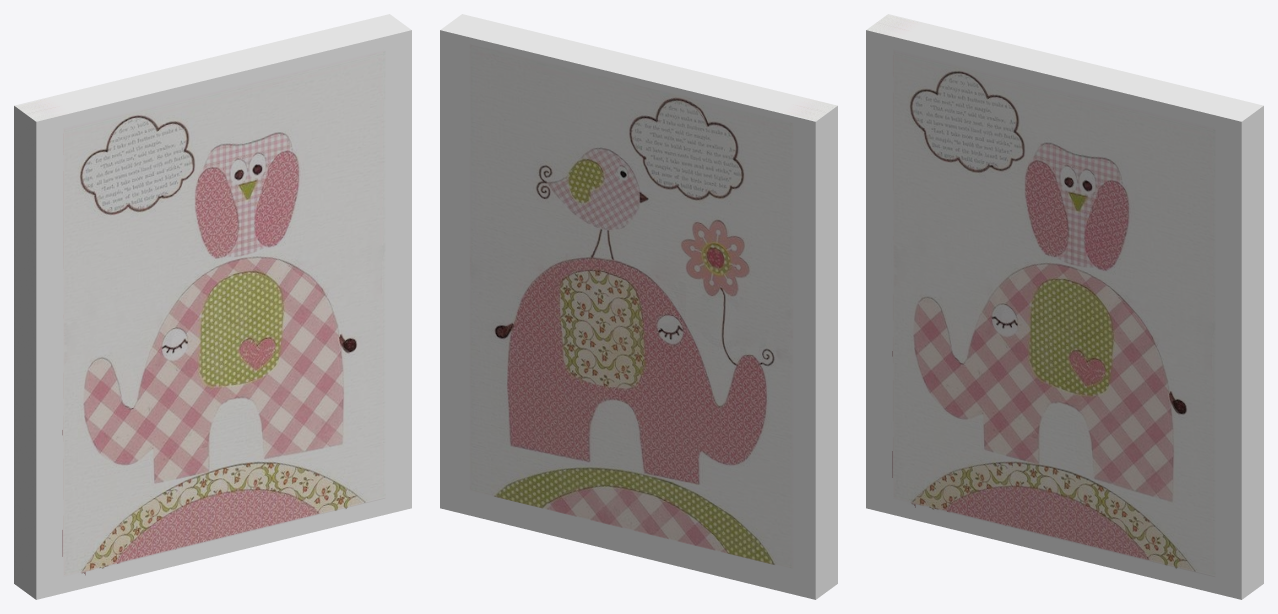
File: Picture 7.FBX
3 views of the same model, side by side, from view 1: azimuth 30°, elevation 25°; view 2: azimuth 150°, elevation 25°; view 3: azimuth 330°, elevation 25° (orthographic).
Visible parts, largest first — view 1: picture 7; view 2: picture 7; view 3: picture 7.
Boxes of the visible parts, x1,y1,x2,y2 form: picture 7: (14, 14, 411, 599); picture 7: (440, 14, 837, 599); picture 7: (866, 14, 1263, 599).
Size of the model in its own units: 33.74 by 41.04 by 3.43.
Materials: 1 (1 with a texture image).
